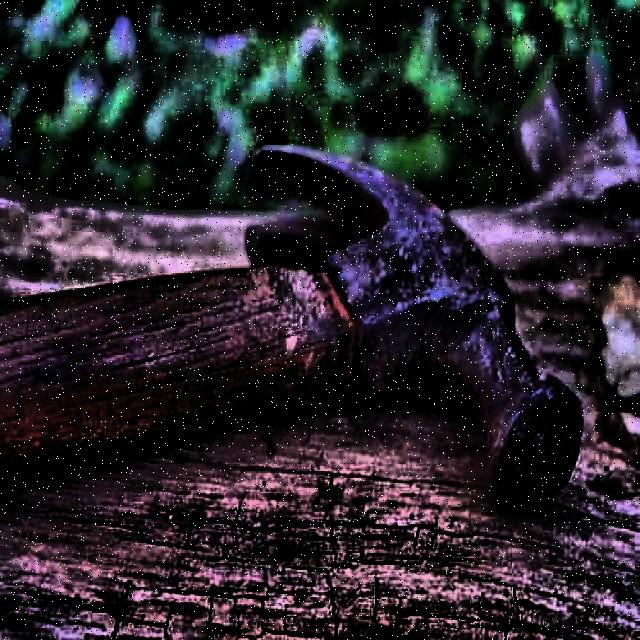hammer: (0, 140, 586, 518)
